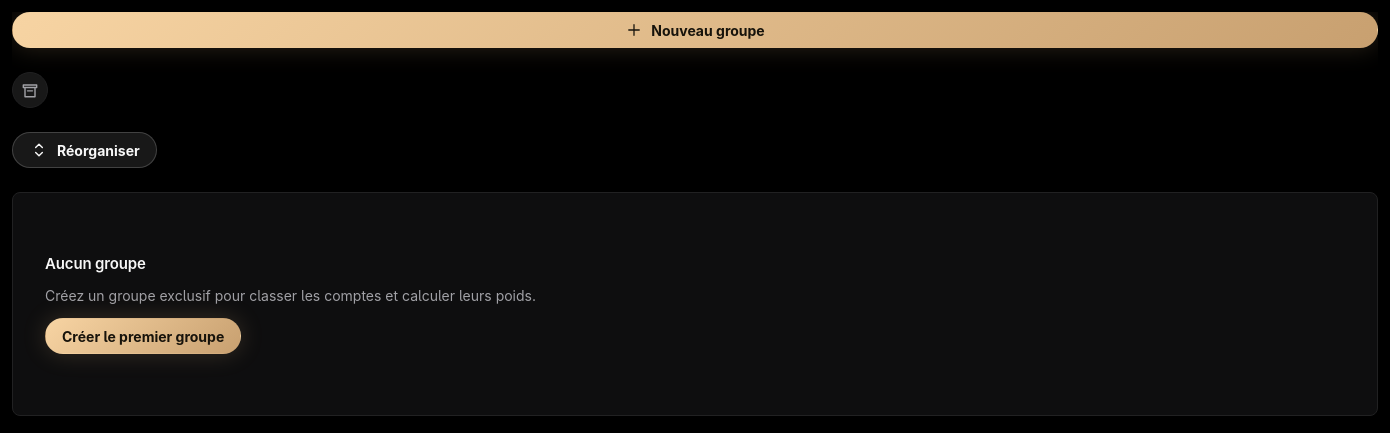
AccountGroupsPage › keeps archived groups read-only and never renders crafted markup
The image size is (1390, 433).
Expected: the heading "Aucun groupe" is shown, 45,254 -> 146,273
Click the button named "Afficher les groupes archivés": (30, 90) 12,72 -> 48,108
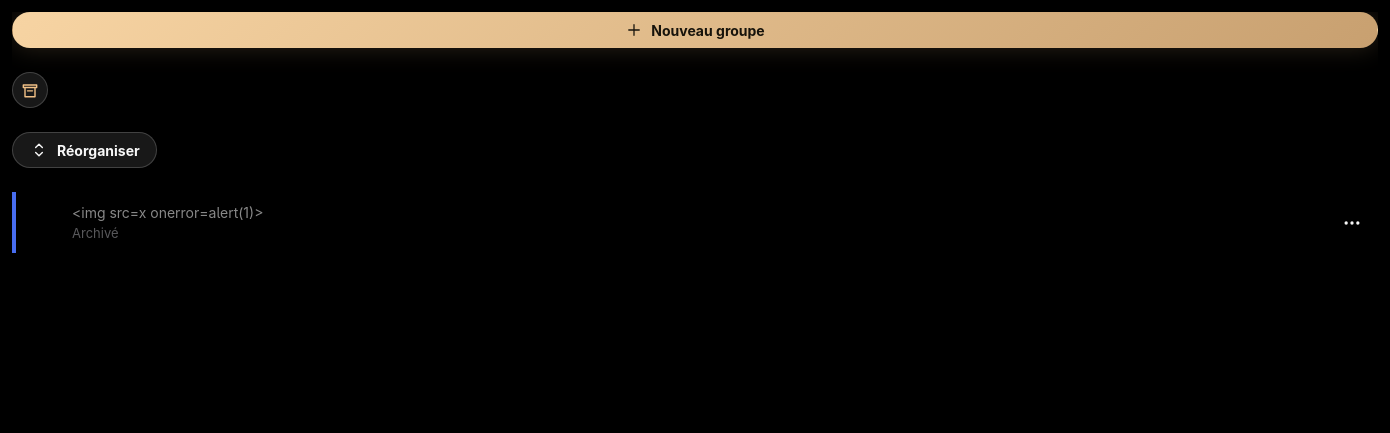
Result: the text "<img src=x onerror=alert(1)>" is shown at 72,204 -> 263,221
Result: the text "Archivé" is shown at 72,225 -> 118,241
Click the button named "Actions du groupe <img src=x onerror=alert(1)>": (1352, 222) 1334,204 -> 1370,240
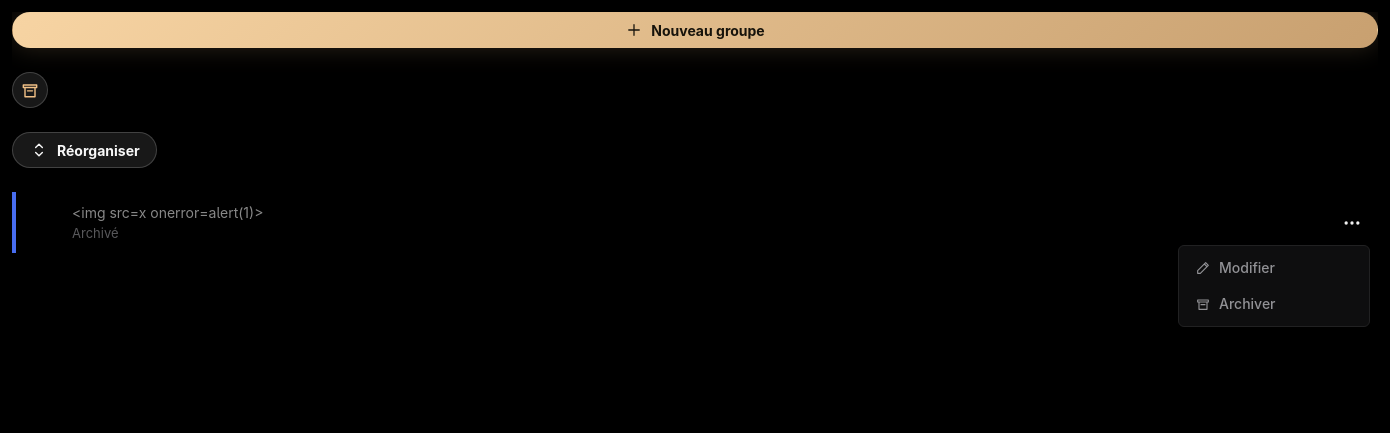
Result: the button "Modifier" is disabled at 1183,250 -> 1365,286
